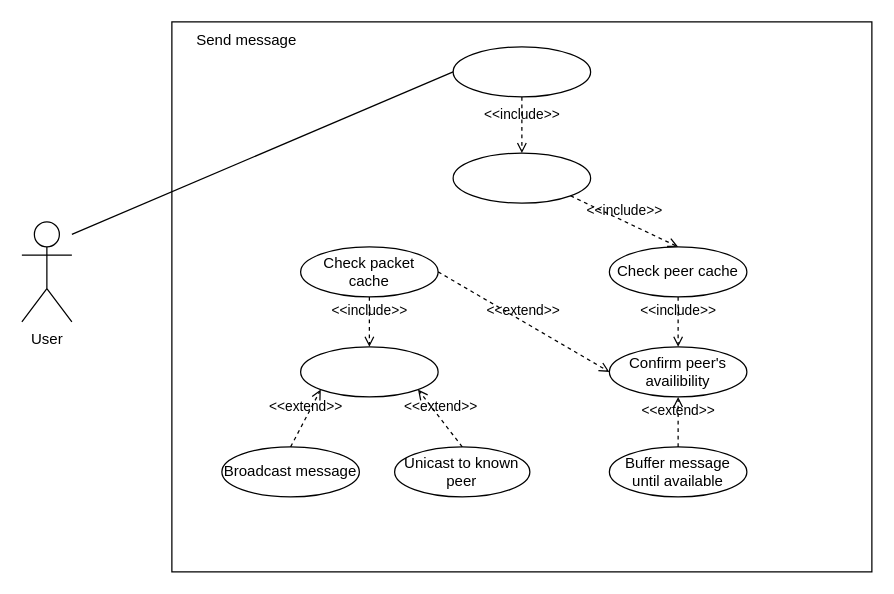
Image size: 894x594. Some labels were removed from this diagram. The shapes that lost their labels are listed below. From the top down, each one's centre as x and y in pixels, then its label:
point 521,71: Type message in channel
point 521,177: Form packet
point 368,371: Confirm packet's path
